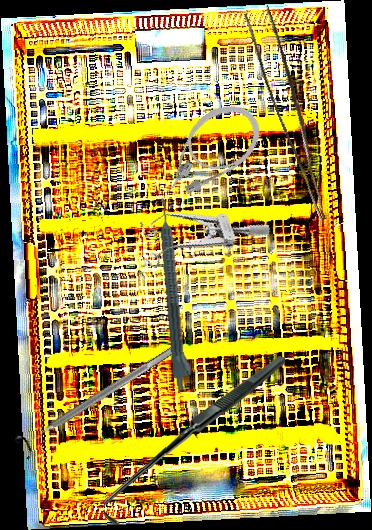Cannula: (142, 92, 272, 210)
Fixation Ring: (12, 338, 181, 461)
Handpiece: (157, 196, 195, 393)
Hook Surgical: (103, 353, 286, 528)
Speculum: (127, 180, 272, 280)
Tissue Forceps: (237, 5, 351, 221)
